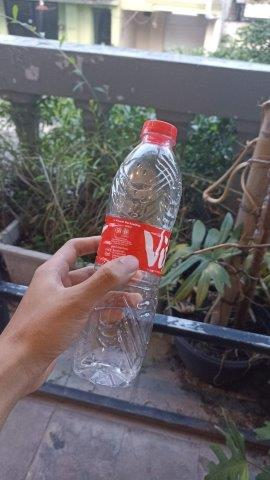botolplastik: (72, 118, 183, 384)
